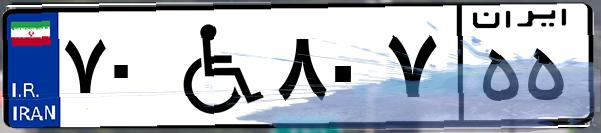0: (330, 28, 385, 110), (110, 28, 158, 98)
5: (475, 38, 525, 113), (525, 38, 570, 115)
7: (385, 28, 445, 110), (57, 26, 110, 100)
8: (270, 28, 330, 110)
ژ (معلولین و جانبازان): (158, 12, 270, 120)
